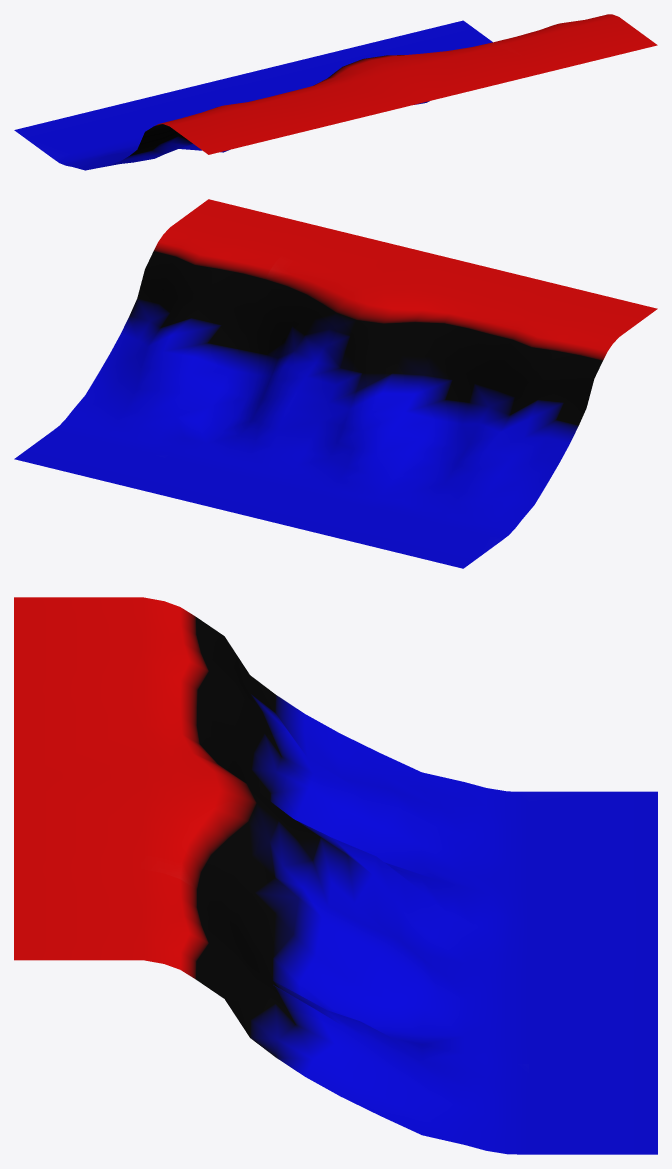
File: RiverBank02B Background.fbx
3 views of the same model, one above another, from view 1: azimuth 30°, elevation 25°; view 2: azimuth 150°, elevation 25°; view 3: azimuth 270°, elevation 25° (orthographic). The views are drawn at different scales.
Visible parts, largest first — view 1: RiverBank02B Background; view 2: RiverBank02B Background; view 3: RiverBank02B Background.
Part boxes in pixels (x1,y1,x2,y2): RiverBank02B Background: [14, 14, 657, 170]; RiverBank02B Background: [14, 199, 657, 568]; RiverBank02B Background: [14, 597, 657, 1154].
Size of the model in its own units: 4 by 1 by 3.
